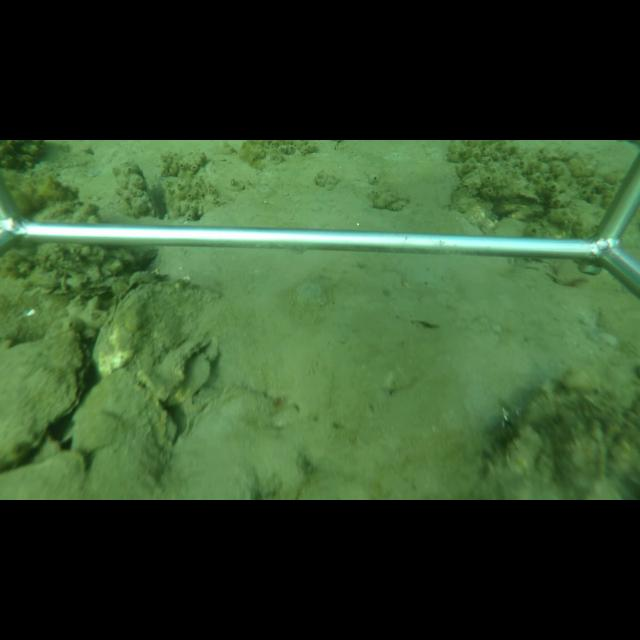Oyster-Closed: (0, 318, 93, 466), (94, 279, 227, 379)
